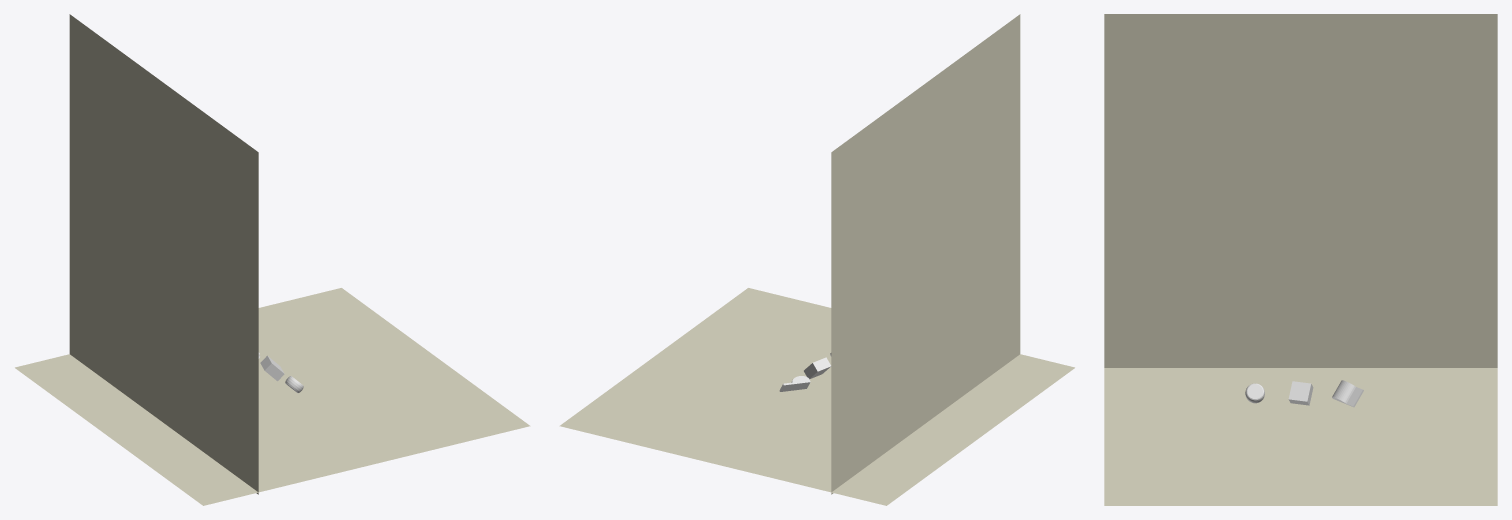
3 renders of one model, left to right at view 1: azimuth 30°, elevation 25°; view 2: azimuth 150°, elevation 25°; view 3: azimuth 270°, elevation 25°, orthographic. The views are drawn at different scales.
Visible parts, largest first — view 1: Plane.001, Plane; view 2: Plane.001, Plane; view 3: Plane.001, Plane, sausageroll, sandwich.
Boxes of the visible parts, x1,y1,x2,y2 form: Plane.001: (69,14,258,494); Plane: (15,288,530,505); Plane.001: (831,14,1020,494); Plane: (559,288,1074,505); Plane.001: (1104,14,1497,367); Plane: (1104,368,1497,505); sausageroll: (1332,380,1363,407); sandwich: (1288,381,1313,405).
Size of the model in its own units: 60.09 by 60.09 by 60.09.
